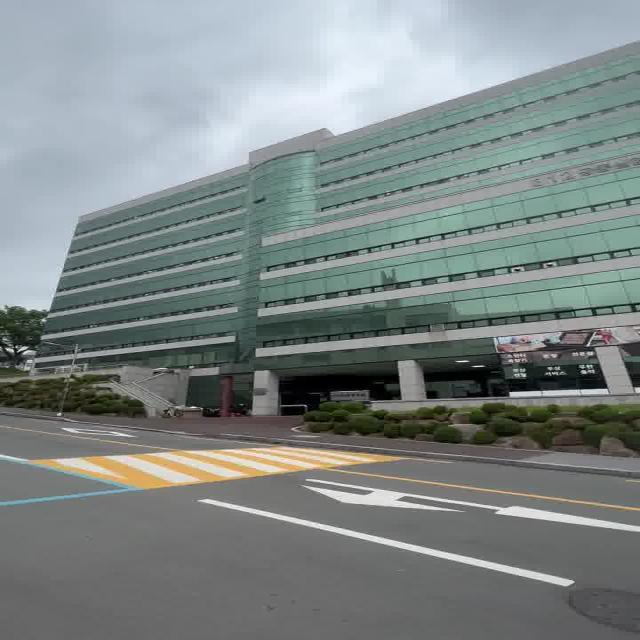building: (39, 95, 633, 339)
